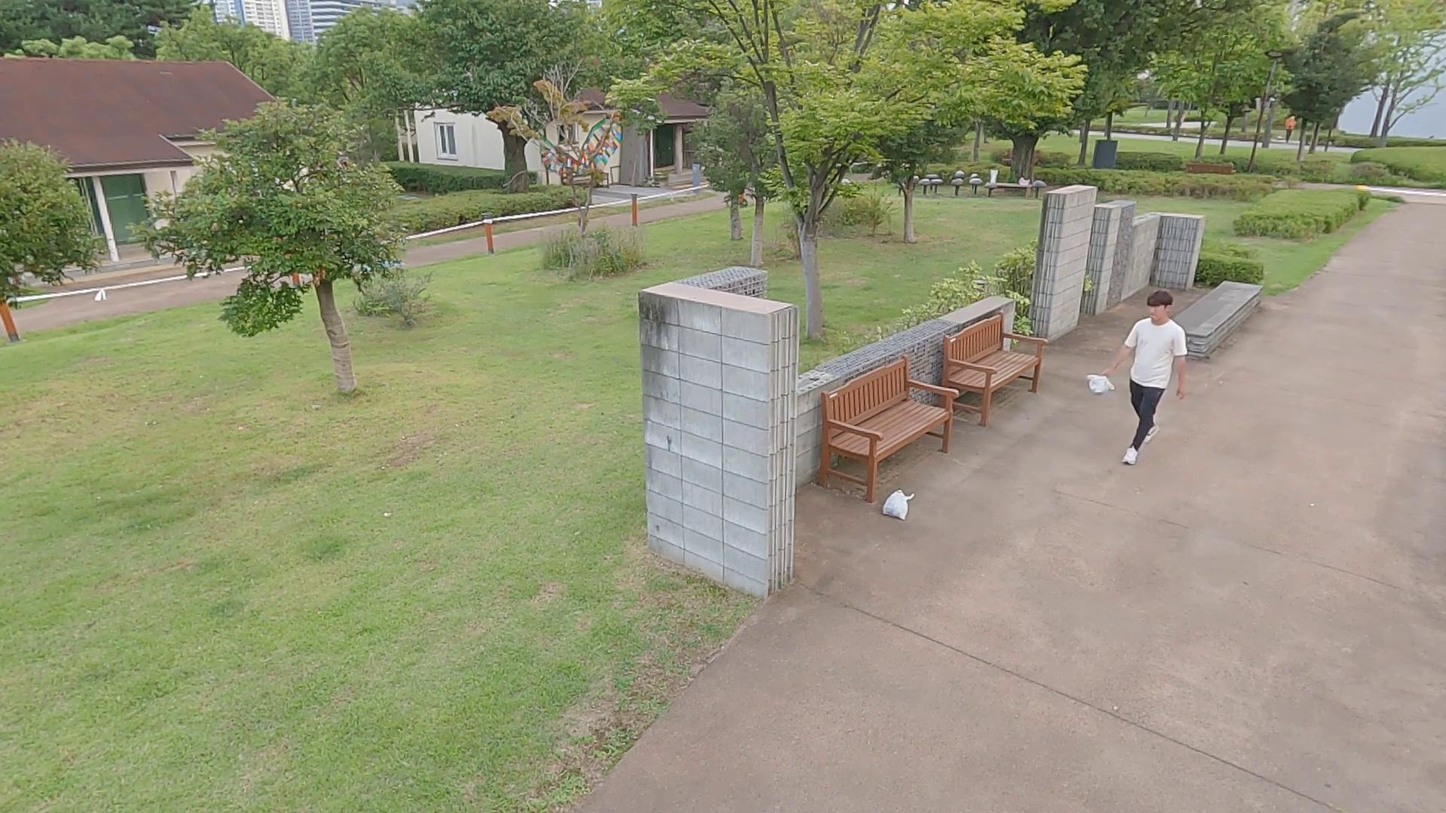person: (1102, 288, 1194, 475)
trash: (877, 487, 919, 522), (1079, 368, 1117, 397)
